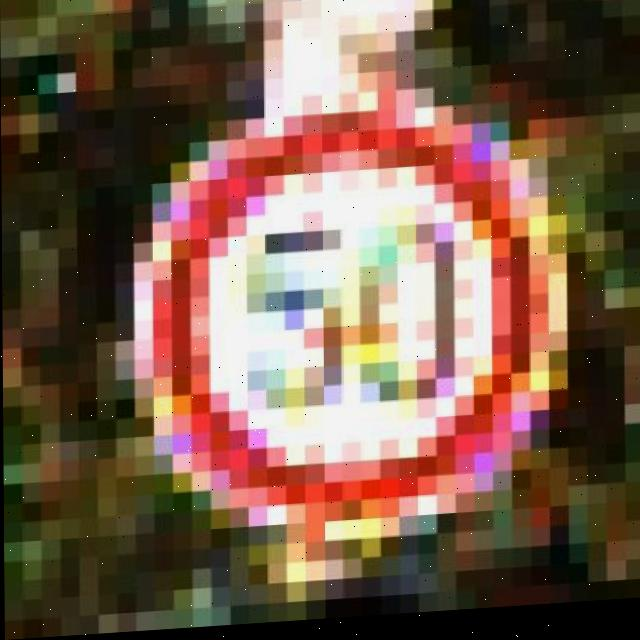Speed limit 50: (140, 101, 560, 544)
